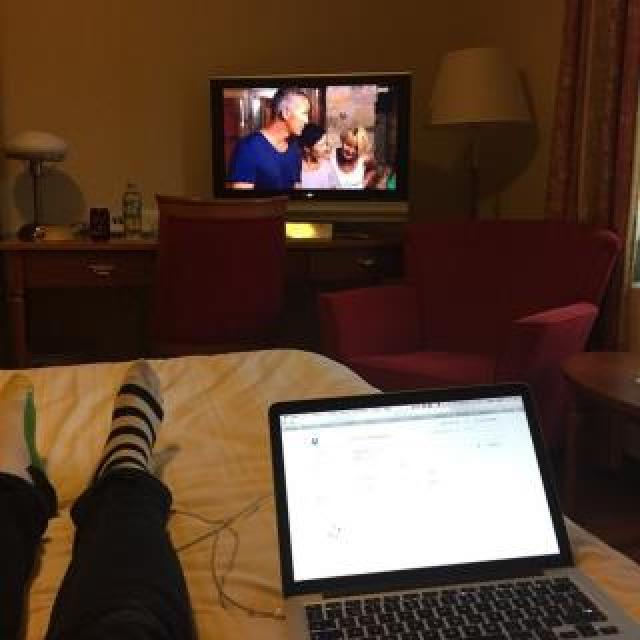laptop_computer: (244, 390, 610, 640)
